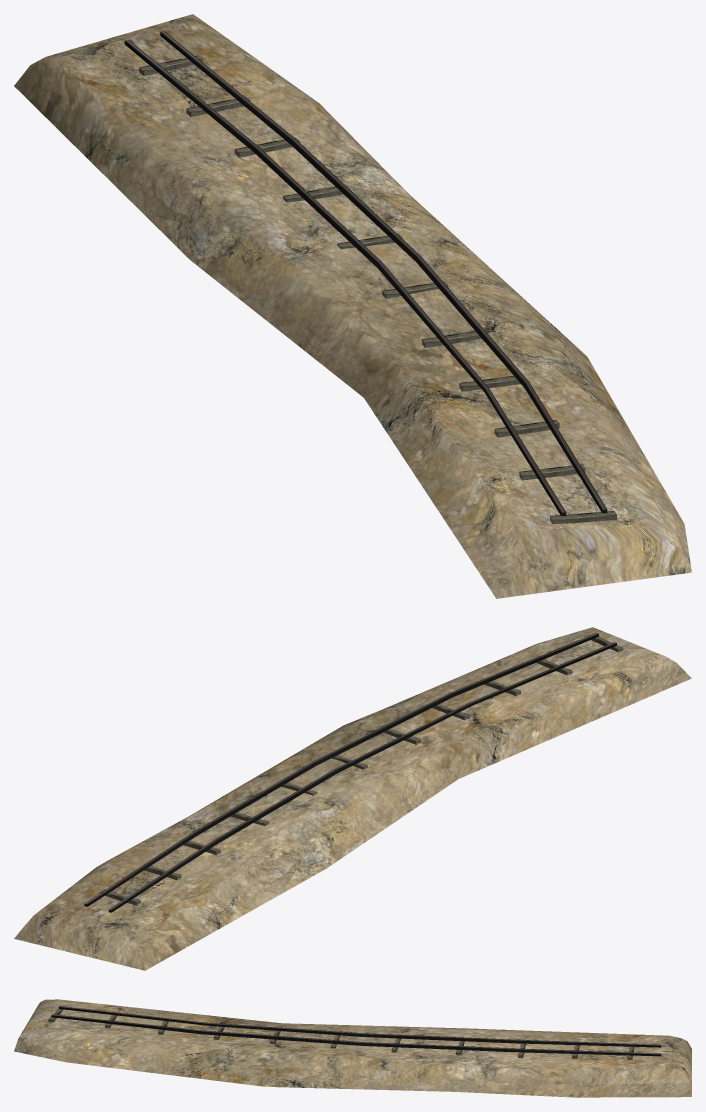
File: pir_m_prp_mng_track_curve.fbx
3 views of the same model, one above another, from view 1: azimuth 30°, elevation 25°; view 2: azimuth 150°, elevation 25°; view 3: azimuth 270°, elevation 25° (orthographic). The views are drawn at different scales.
Parts seen in each view (by area): view 1: mound, track_tie, track_left, track_right; view 2: mound, track_left, track_right, track_tie; view 3: mound, track_left, track_right, track_tie.
Part boxes in pixels (x1,y1,x2,y2): mound: [14, 14, 691, 598]; track_tie: [139, 55, 616, 523]; track_left: [160, 31, 607, 513]; track_right: [124, 40, 566, 516]; mound: [14, 627, 691, 970]; track_left: [84, 633, 598, 906]; track_right: [108, 642, 616, 912]; track_tie: [100, 636, 623, 905]; mound: [14, 999, 691, 1097]; track_left: [51, 1014, 661, 1056]; track_right: [59, 1006, 661, 1047]; track_tie: [48, 1007, 634, 1059].
Size of the model in its own units: 2340 by 314 by 7522.
2 materials, 2 textured.
